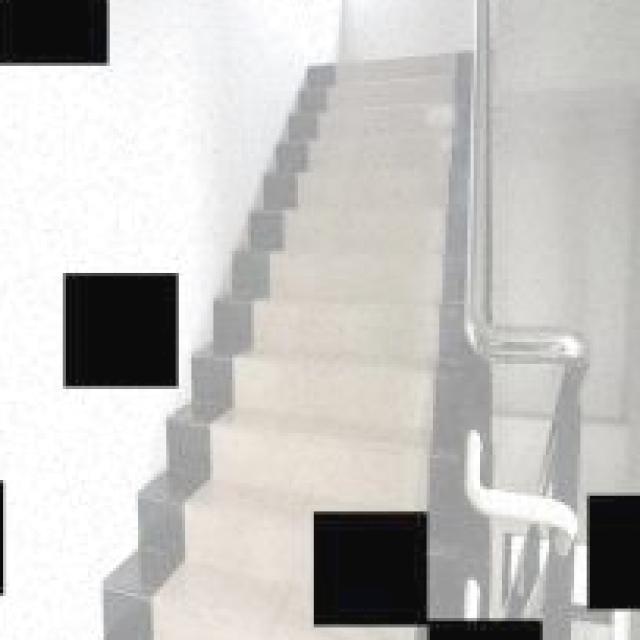upstair: (271, 117, 462, 447)
